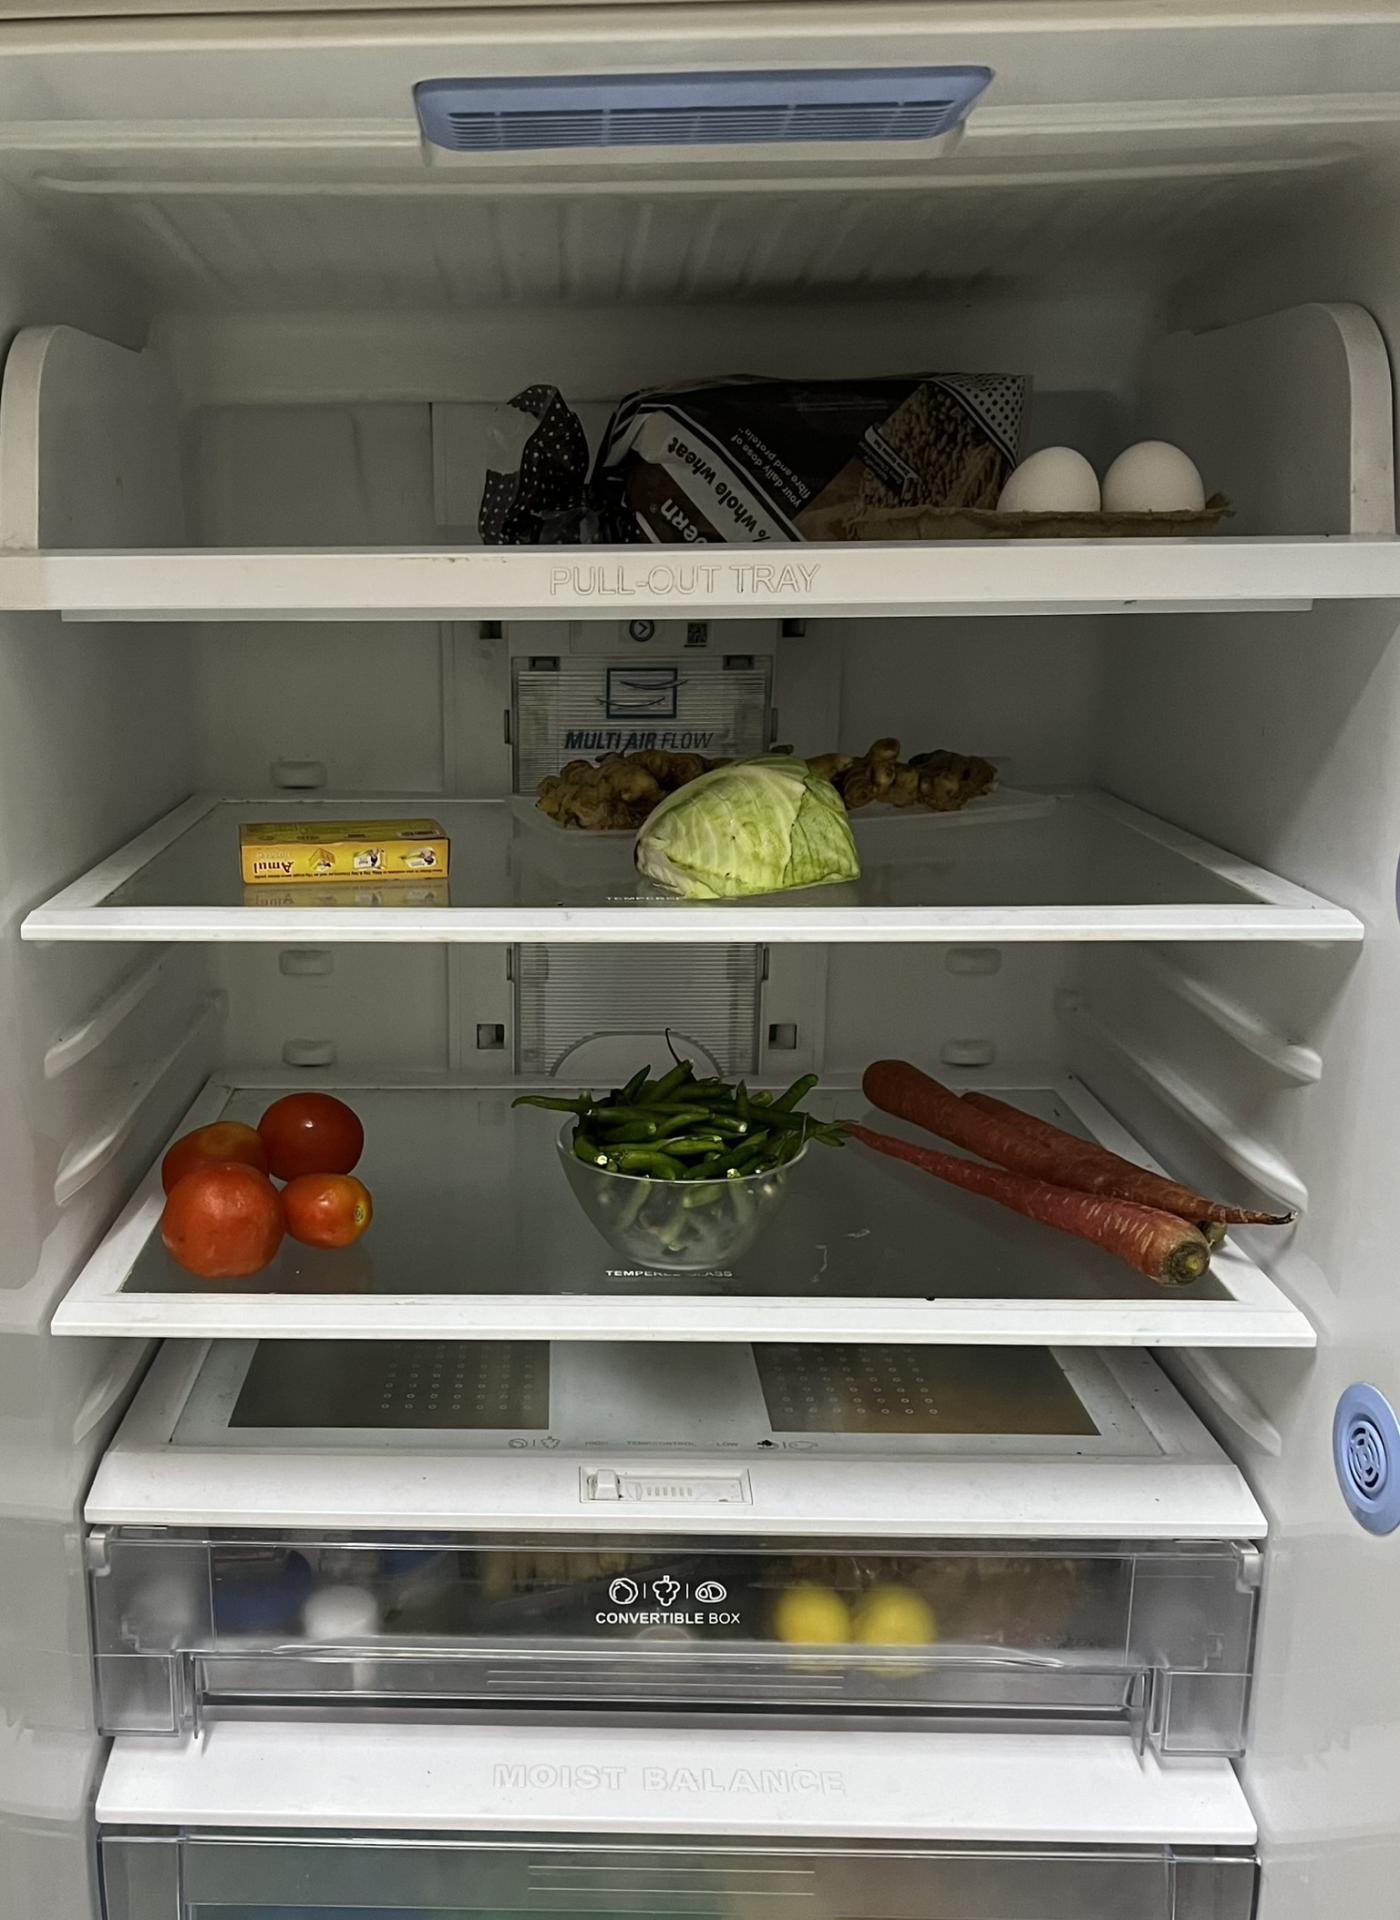bread: (476, 377, 1027, 546)
butter: (236, 820, 455, 884)
cabbage: (635, 754, 877, 890)
carrots: (820, 1067, 1263, 1301)
chillies: (564, 1061, 808, 1213)
egg: (1018, 438, 1212, 513)
ginger: (558, 730, 997, 814)
tomato: (158, 1088, 377, 1272)
